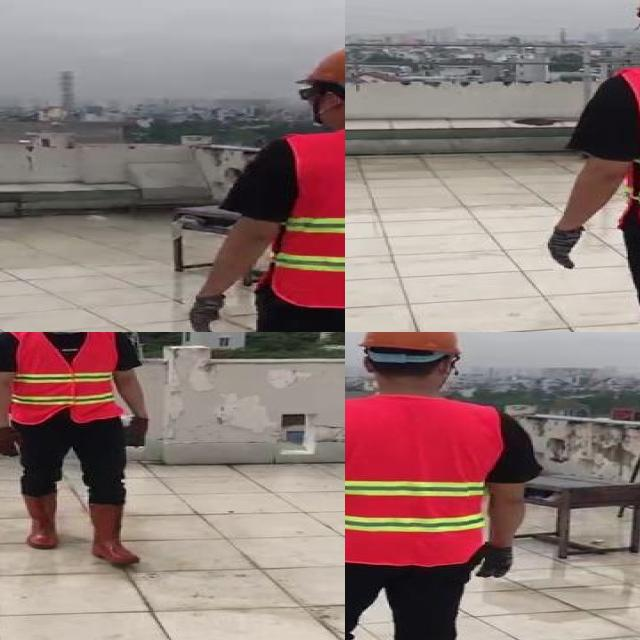boots: (84, 503, 137, 568), (18, 490, 60, 549)
hand_glove: (546, 227, 584, 269), (190, 291, 225, 332), (473, 545, 515, 578), (0, 428, 23, 458), (130, 414, 148, 446)
head_helmet: (292, 42, 345, 95), (356, 332, 464, 354)
person: (345, 332, 549, 640), (173, 42, 345, 332), (0, 332, 161, 571), (536, 0, 640, 332)
vest: (345, 394, 503, 566), (275, 129, 345, 304), (7, 332, 121, 423)
